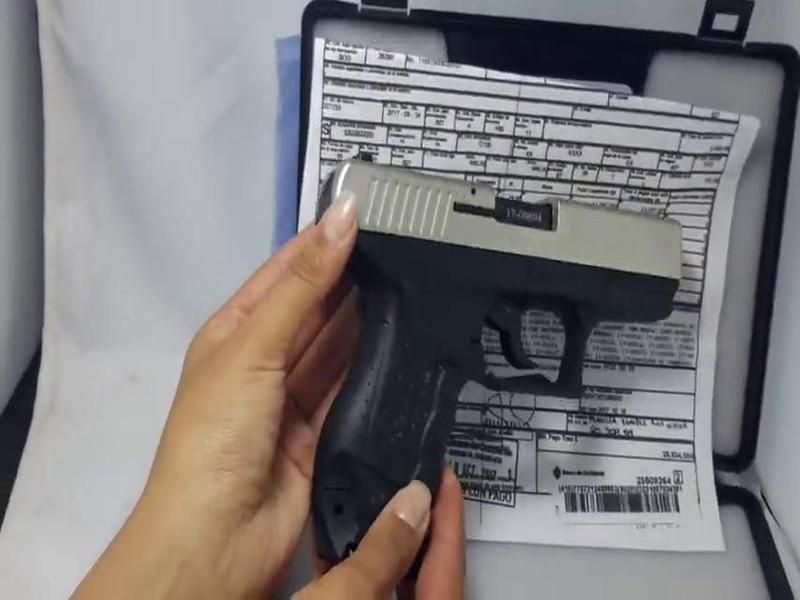Pistola: (286, 139, 695, 534)
